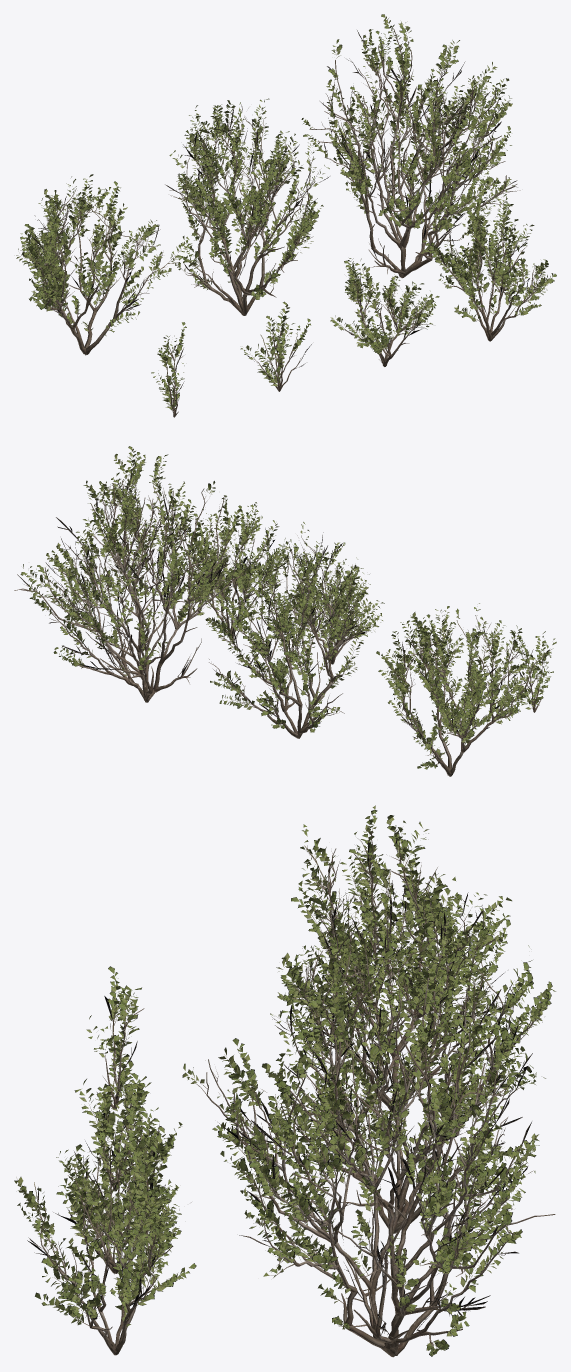
File: searsia_lucida.glb
3 views of the same model, one above another, from view 1: azimuth 30°, elevation 25°; view 2: azimuth 150°, elevation 25°; view 3: azimuth 270°, elevation 25° (orthographic). The views are drawn at different scales.
Visible parts, largest first — view 1: searsia_lucida_a_LOD0; view 2: searsia_lucida_a_LOD0; view 3: searsia_lucida_a_LOD0.
Boxes of the visible parts, x1=… form: searsia_lucida_a_LOD0: x1=16, y1=14, x2=556, y2=417; searsia_lucida_a_LOD0: x1=14, y1=446, x2=556, y2=776; searsia_lucida_a_LOD0: x1=14, y1=805, x2=555, y2=1357.
Size of the model in its own units: 4.76 by 2.33 by 2.83.
Materials: 2 (2 with a texture image).
